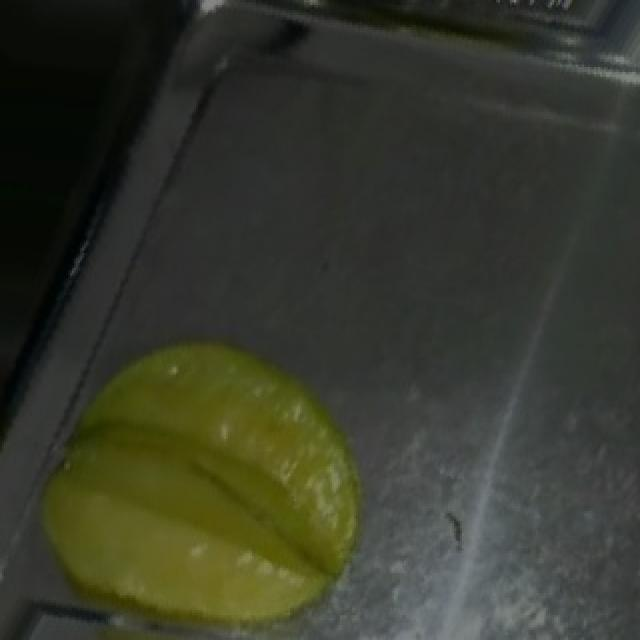fruit: (0, 225, 428, 640)
